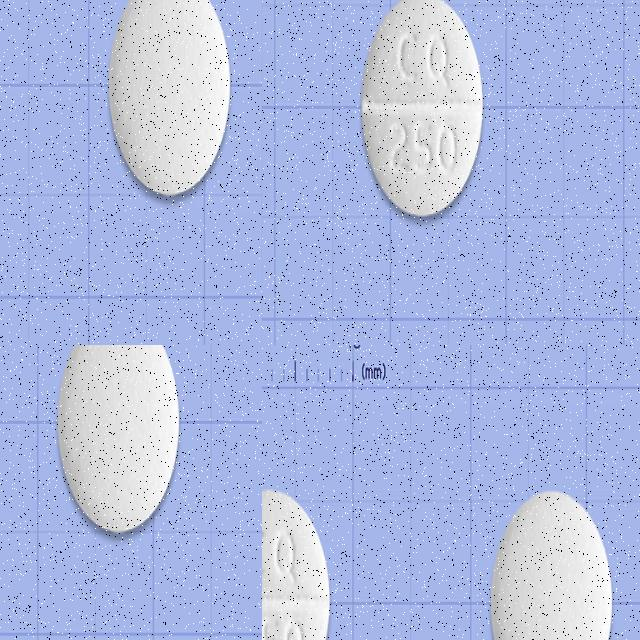Baracle -1mg: (442, 145, 619, 345)
Cefixime Cap- Reyon: (0, 163, 118, 345)
Cq Robey: (491, 486, 613, 640), (262, 488, 330, 640)
